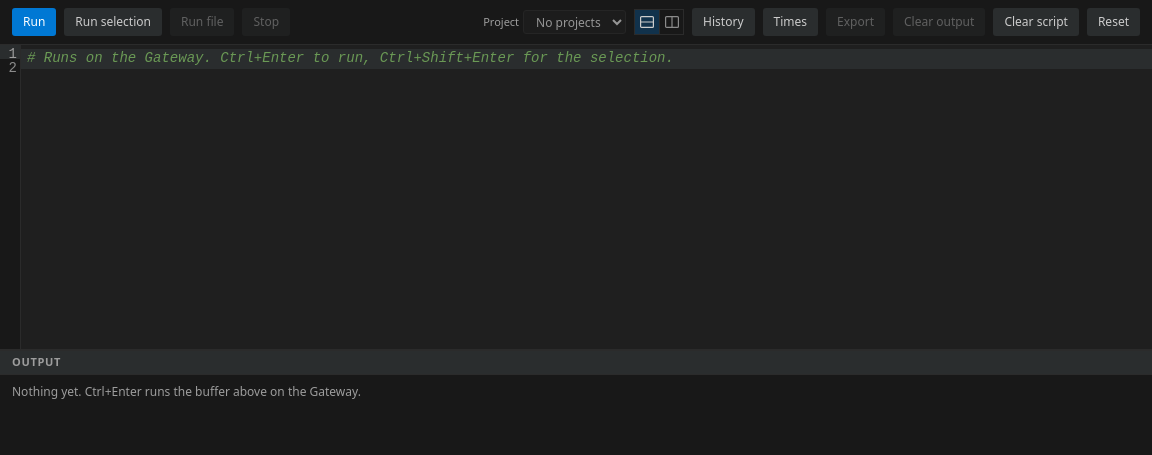
Test: ScriptConsole › shows streamed output while the run is still going
The width and height of the screenshot is (1152, 455).
Click the button "Run". click: (34, 22)
box: x1=12 y1=8 x2=56 y2=36
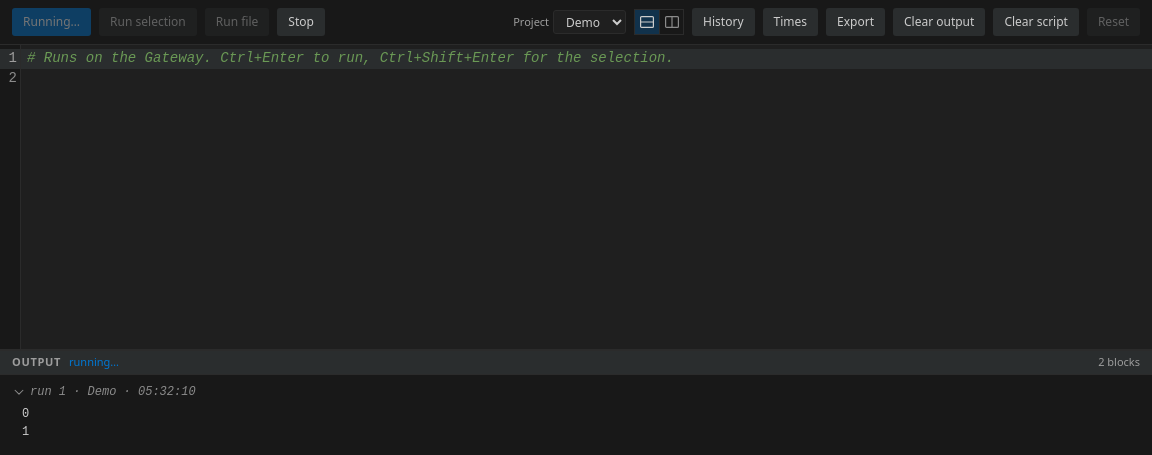
Check: the element labelled "Output" shows "0", box x1=22 y1=407 x2=29 y2=439
Check: the button "Running…" is disabled, box x1=12 y1=8 x2=91 y2=36
Check: the number of elements with class "console-stdout" is 1, box x1=22 y1=407 x2=29 y2=439
